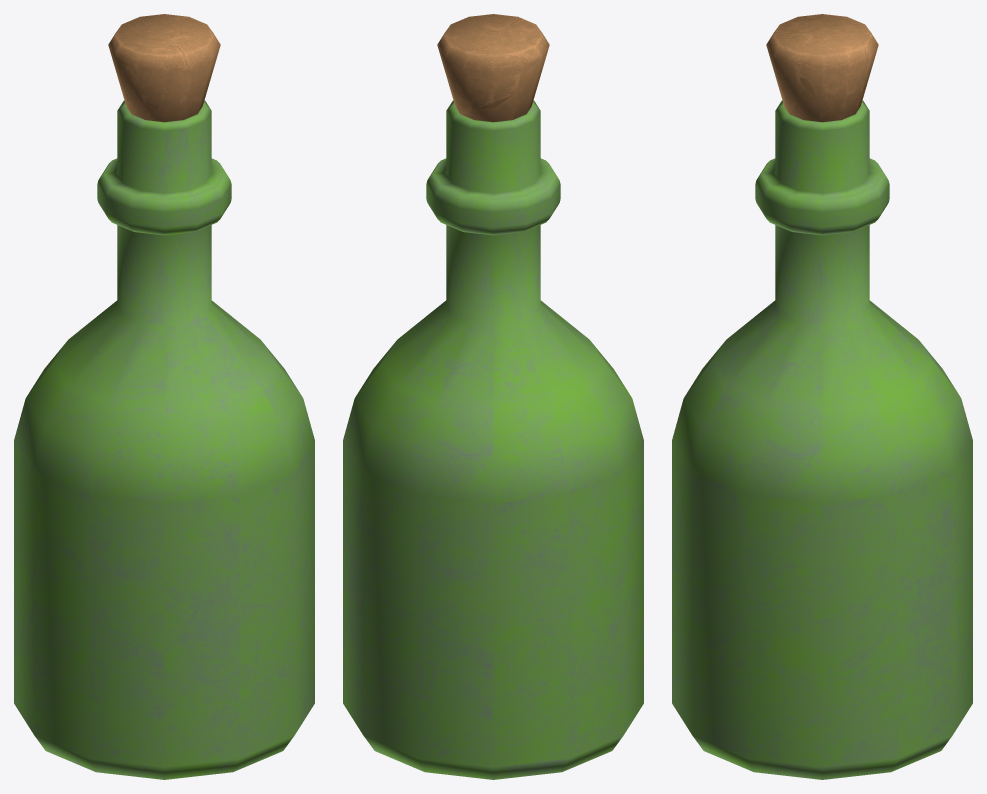
Rendered from bottle_1.fbx.
3 views of the same model, side by side, from view 1: azimuth 30°, elevation 25°; view 2: azimuth 150°, elevation 25°; view 3: azimuth 270°, elevation 25° (orthographic).
Parts seen in each view (by area): view 1: bottle_1, cork; view 2: bottle_1, cork; view 3: bottle_1, cork.
Boxes of the visible parts, x1=… form: bottle_1: x1=14, y1=100, x2=314, y2=779; cork: x1=108, y1=14, x2=220, y2=122; bottle_1: x1=343, y1=100, x2=643, y2=779; cork: x1=437, y1=14, x2=549, y2=122; bottle_1: x1=672, y1=100, x2=972, y2=779; cork: x1=766, y1=14, x2=878, y2=122.
Bounding box in the file's own units: 200 × 504 × 200.
